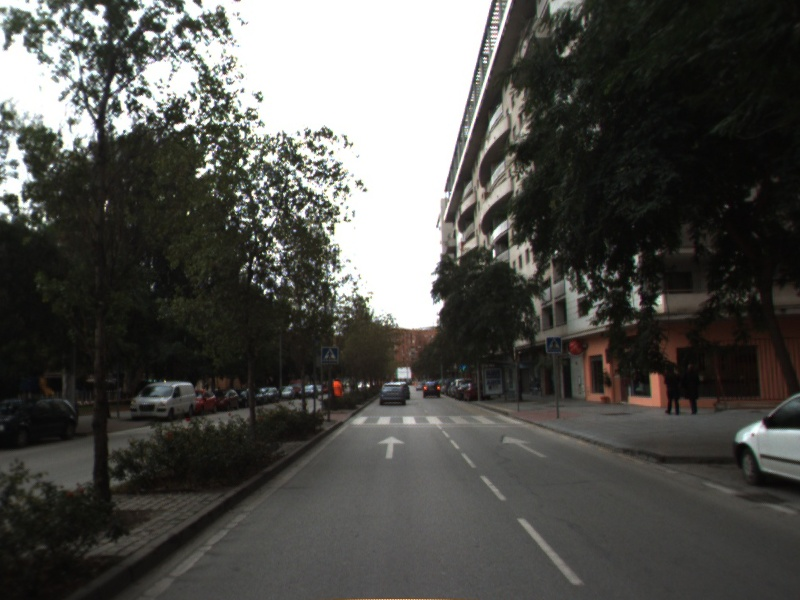STRAIGHT: (500, 433, 550, 460), (375, 433, 408, 461)
